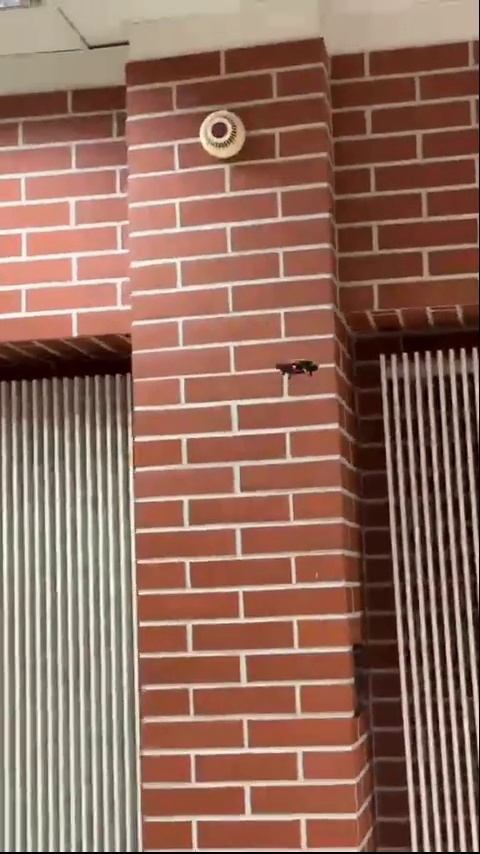drone: (276, 358, 324, 378)
